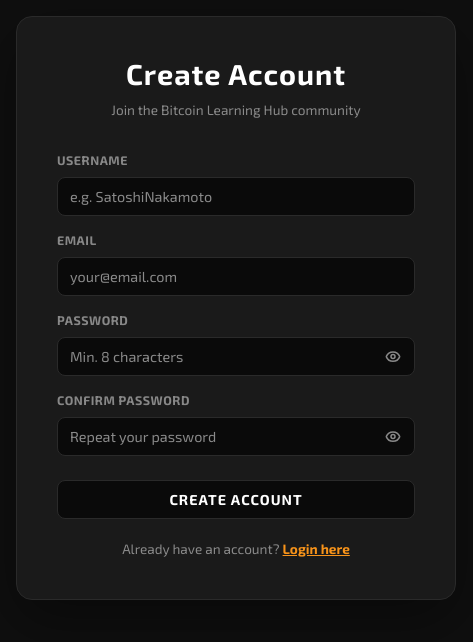
Scenario: Register form › rejects mismatched password confirmation
This screenshot has width=473, height=642.
Type "martin" into the field labelled "Username". click: (236, 196)
box: [57,177,415,216]
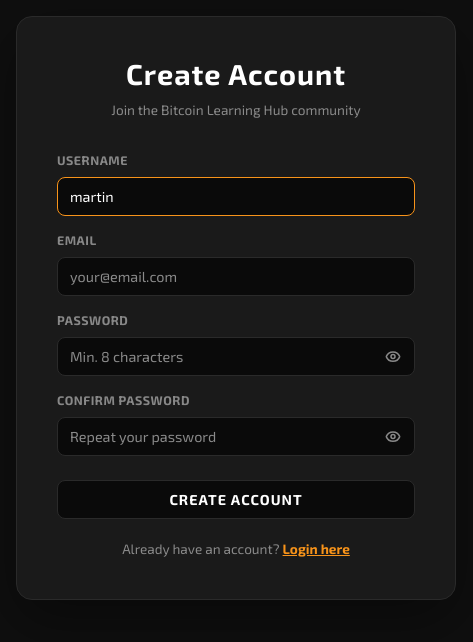
Type "martin@example.com" into the field labelled "Email". click: (236, 277)
box: [57,257,415,296]
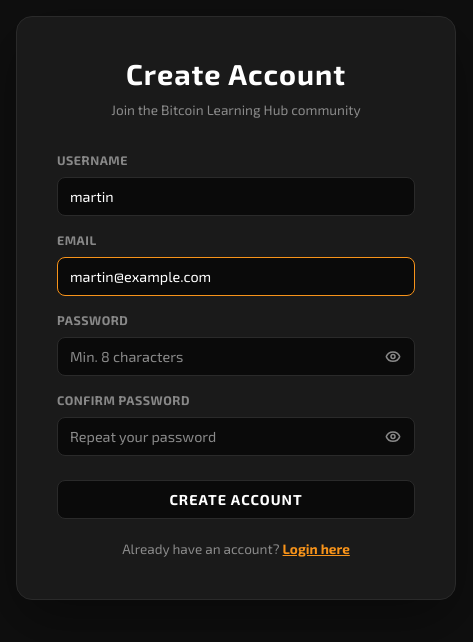
Type "supersecret1" into the password field labelled "Password". click: (236, 357)
box: [57,337,415,376]
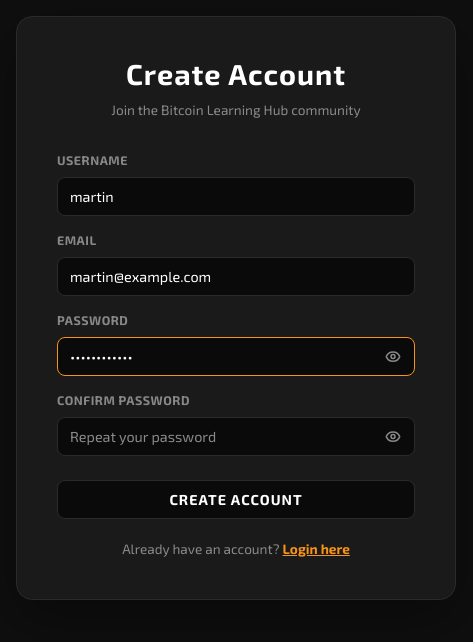
Type "different-pass-1" into the password field labelled "Confirm Password". click: (236, 437)
box: [57,417,415,456]
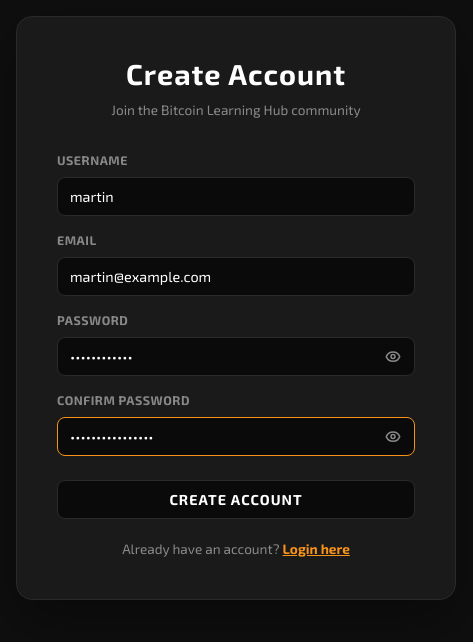
Click the button "Create Account". click: (236, 500)
box: [57,480,415,519]
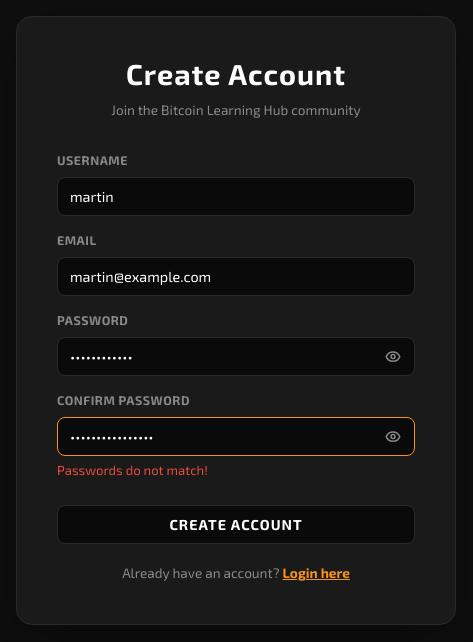
Expected: the text "Passwords do not match!" is shown, [57,462,208,478]
